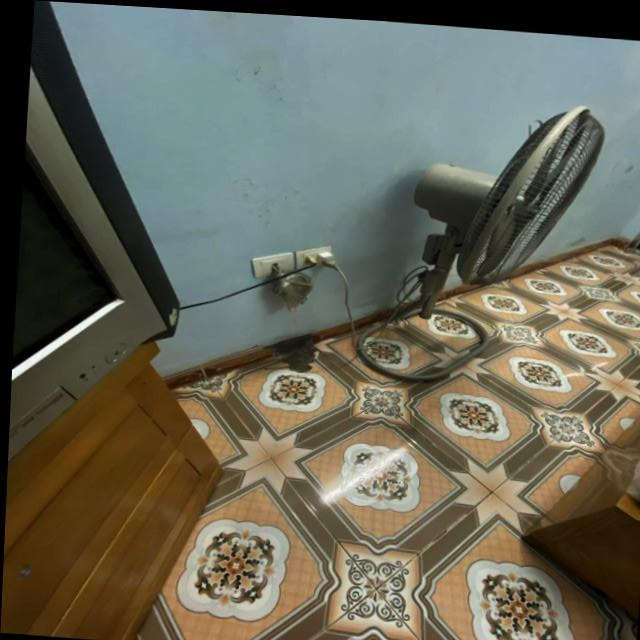outlet: (249, 250, 294, 283), (294, 244, 335, 276)
